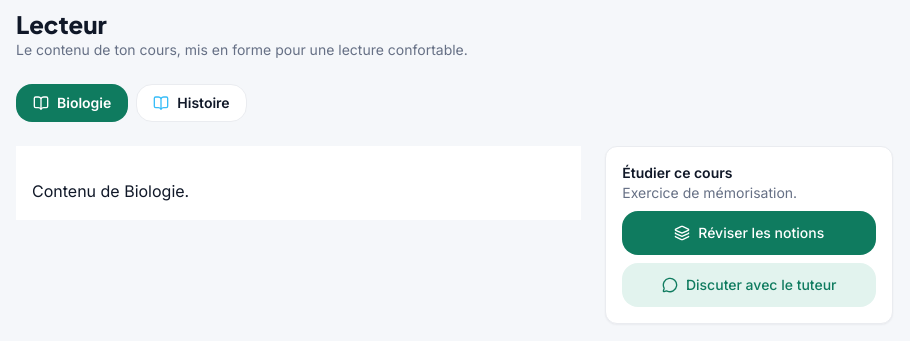
Scenario: ReaderScreen › clicking a different pill switches the course shown, without a page-level view transition
expect the text "Contenu de Biologie." is shown: met, box [32,181,189,201]
Click the button "Histoire" at (191, 103), box [136,84,247,122]
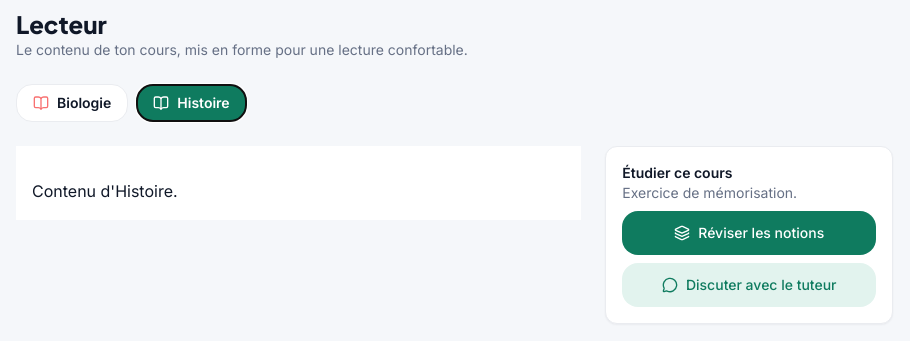
expect the text "Contenu d'Histoire." is shown: met, box [32,181,178,201]
expect the text "Contenu de Biologie." is gone: met
